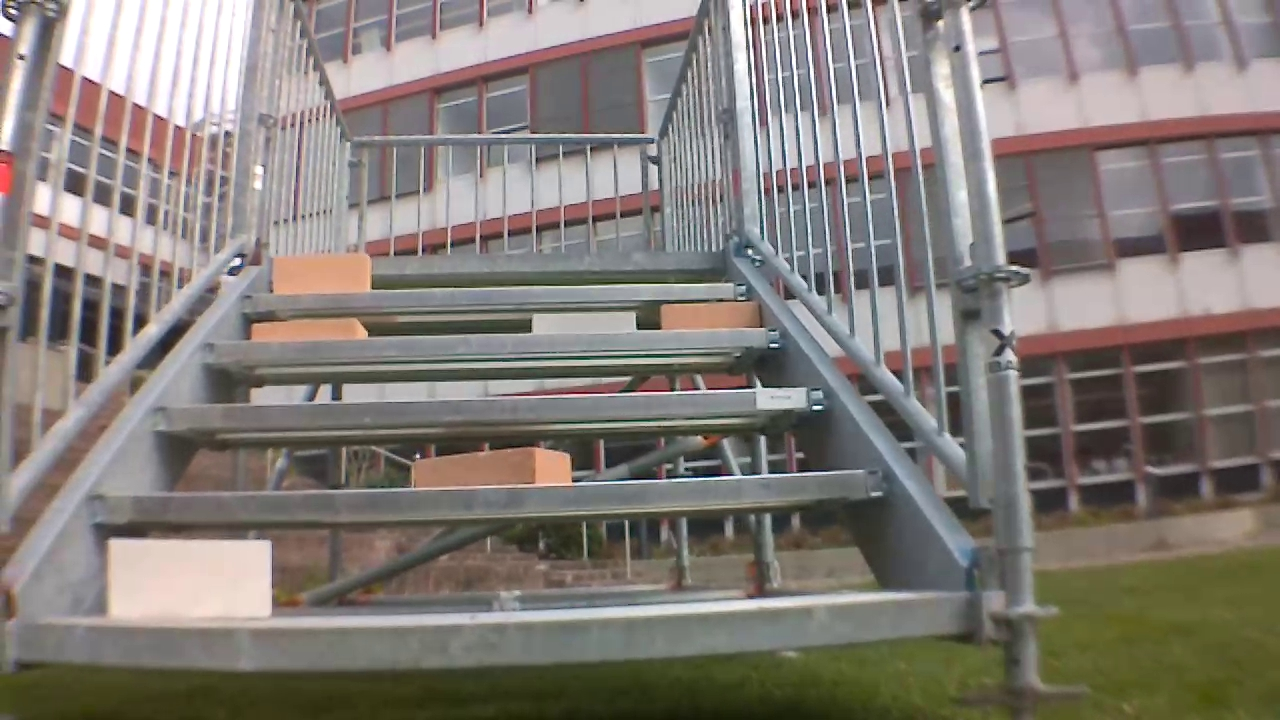brick: (107, 538, 270, 619), (416, 447, 570, 485), (273, 254, 370, 291), (252, 318, 369, 340), (662, 303, 757, 328), (534, 314, 635, 330)
edge: (16, 595, 963, 669), (90, 469, 885, 516), (152, 385, 826, 427), (203, 327, 781, 355), (240, 283, 751, 309), (264, 250, 722, 270)
stairs: (4, 3, 1064, 714)
steps: (10, 246, 967, 675)
